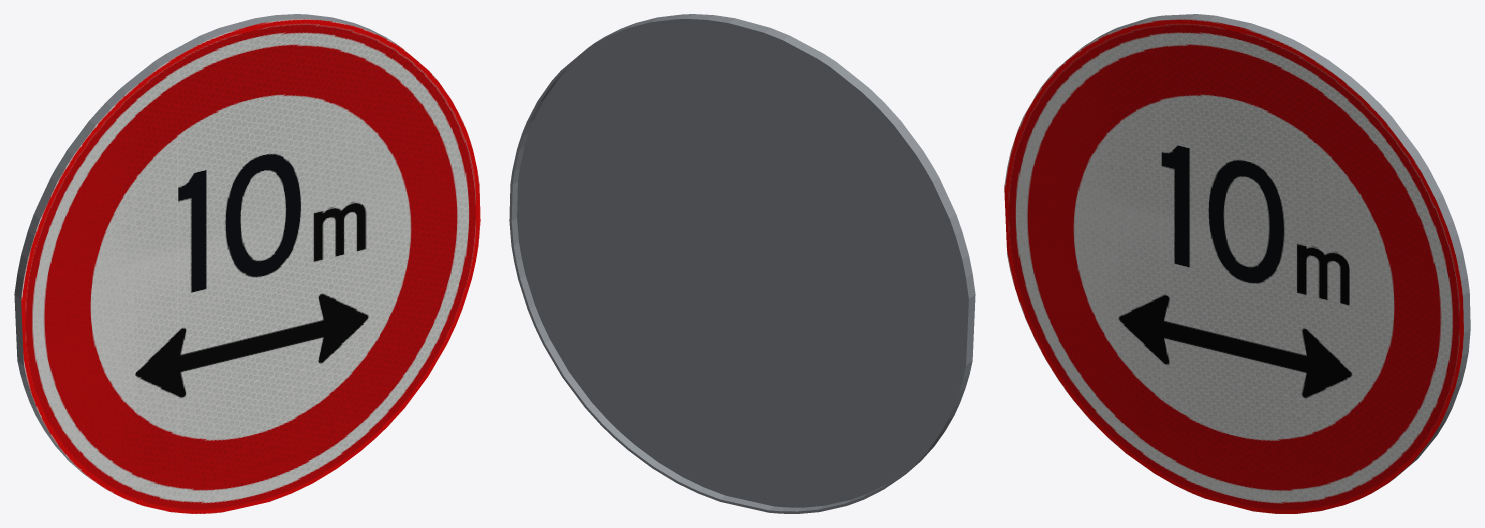
3 views of the same model, side by side, from view 1: azimuth 30°, elevation 25°; view 2: azimuth 150°, elevation 25°; view 3: azimuth 330°, elevation 25° (orthographic).
Parts seen in each view (by area): view 1: cat_08043fc4a897ccd0; view 2: cat_08043fc4a897ccd0; view 3: cat_08043fc4a897ccd0.
Boxes of the visible parts, x1,y1,x2,y2 form: cat_08043fc4a897ccd0: [14, 14, 480, 513]; cat_08043fc4a897ccd0: [509, 14, 975, 513]; cat_08043fc4a897ccd0: [1004, 14, 1470, 513].
Size of the model in its own units: 0.6 by 0.015 by 0.6.
2 materials, 1 textured.
